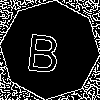B: (25, 25, 63, 73)
